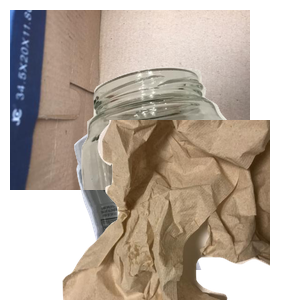cardboard: (10, 10, 250, 190)
glass: (74, 65, 300, 245)
plastic: (71, 120, 265, 300)
trash: (60, 120, 300, 300)
